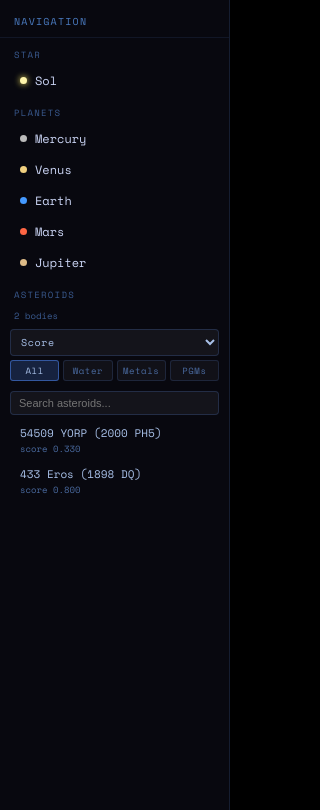
Test: NavigationSidebar › filters asteroids by search query
The image size is (320, 810).
In the search field: (114, 403) [10, 391, 219, 415], type "YORP"
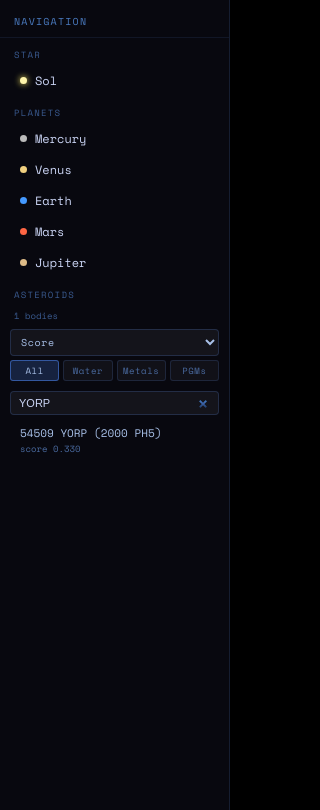
Expected: the text "54509 YORP (2000 PH5)" is shown, [20, 425, 161, 441]
Now the text "433 Eros" is gone
